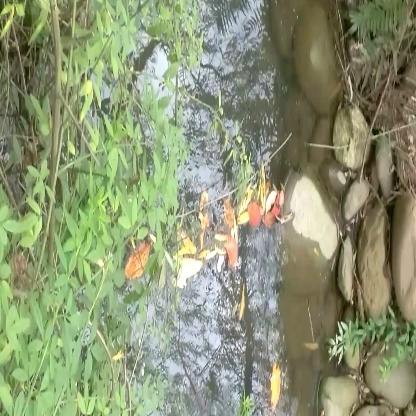leaf: (266, 359, 288, 409)
